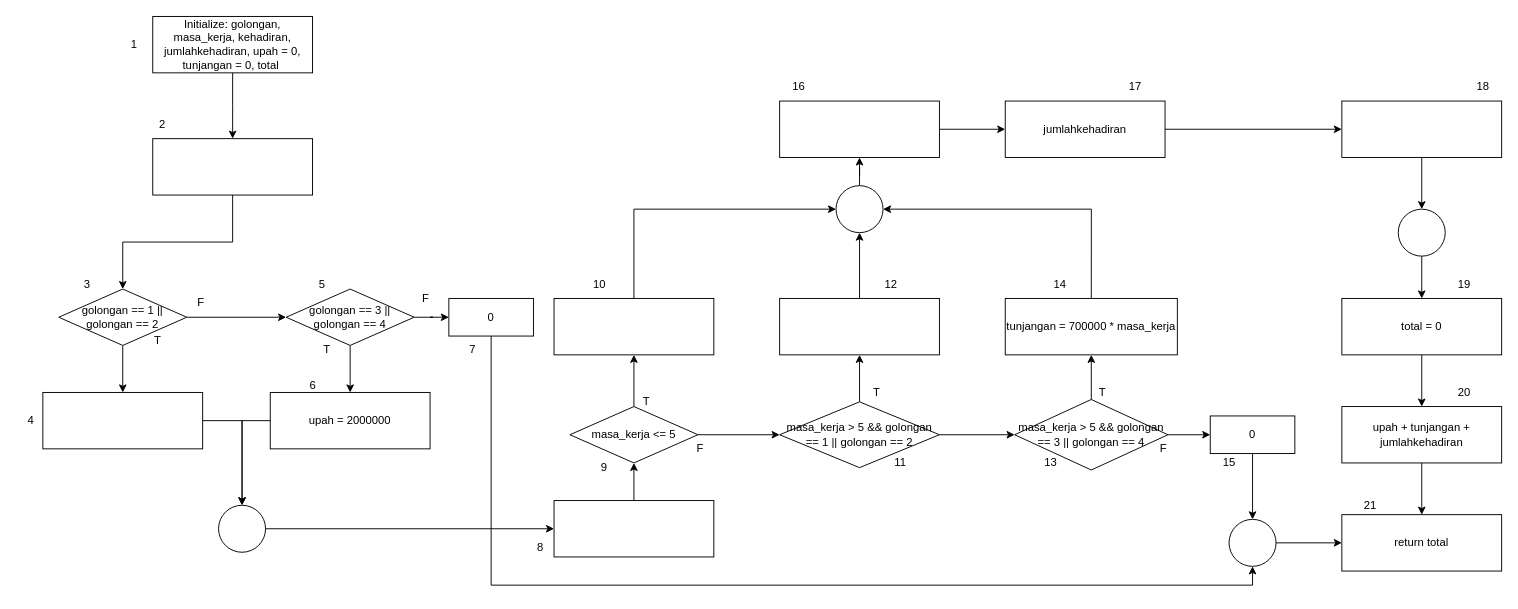
This 1518x609 diagram has some shape labels left out. Here are the shapes that lost their labels. From the top down, the centre of each, then its label:
At (x=859, y=128): "kehadiran = 0".
At (x=1421, y=128): "jumlahkehadiran = 35 * kehadiran".
At (x=232, y=166): "golongan = 0".
At (x=633, y=326): "tunjangan = 0".
At (x=859, y=326): "tunjangan = 500000 * masa_kerja".
At (x=122, y=420): "upah = 1000000".
At (x=633, y=528): "masa_kerja = 0".
